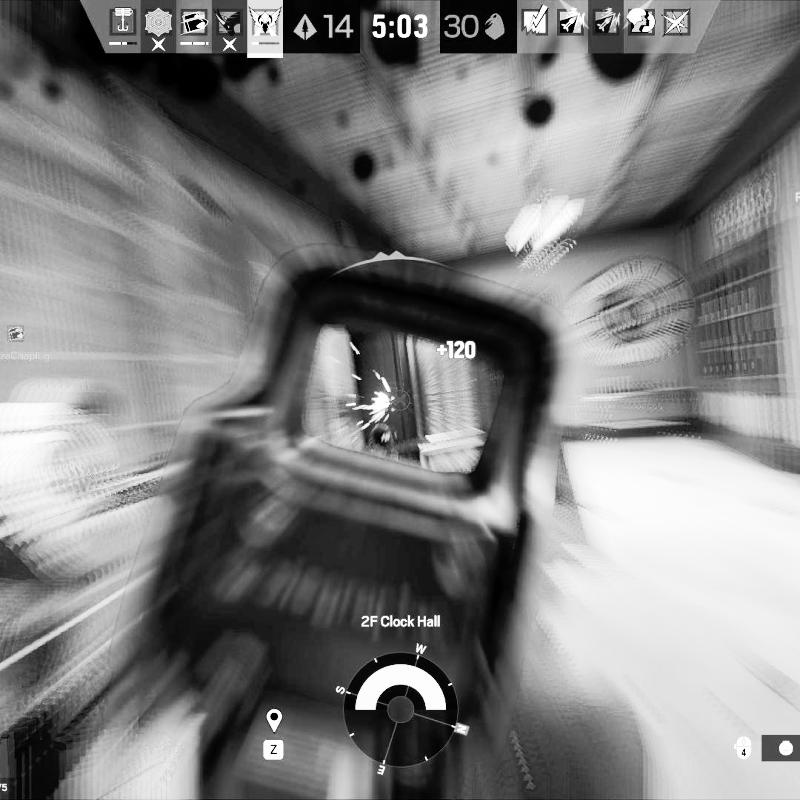Character: (0, 374, 188, 800), (360, 417, 403, 460)
Friend_label: (0, 325, 49, 363)
Head: (54, 376, 120, 435), (367, 420, 399, 454)
